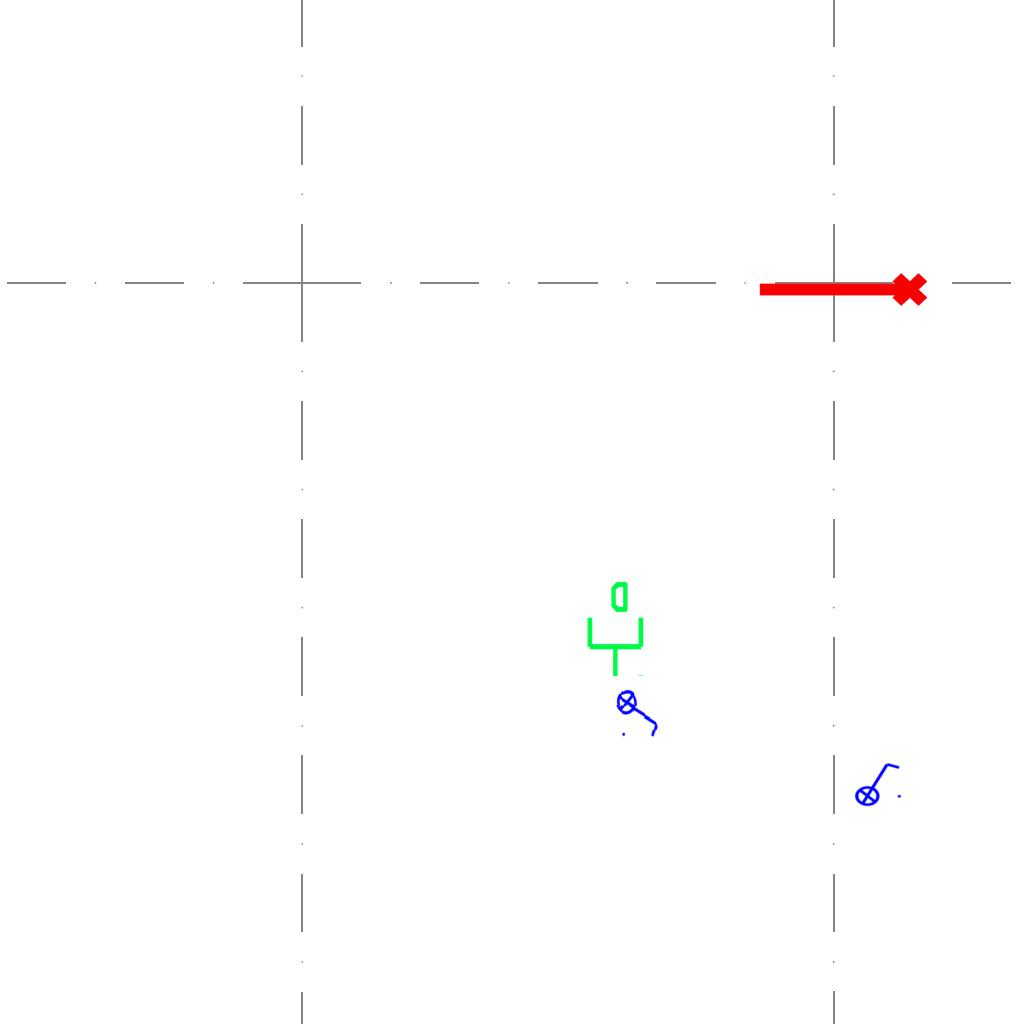ASR_Ansaugoeffnung: (754, 269, 930, 315)
Ausschalter_beleuchtet: (612, 682, 666, 742), (848, 759, 904, 807)
Datenanschluss_einfach: (579, 579, 648, 679)
